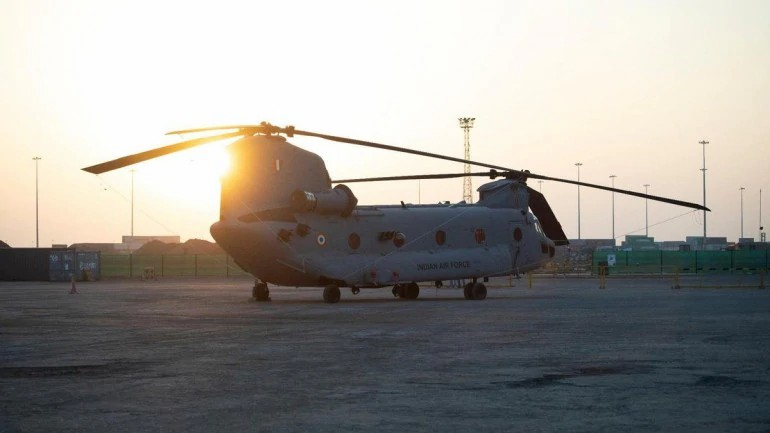chinook: (195, 113, 574, 311)
